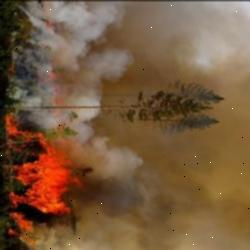fire: (4, 122, 90, 244)
